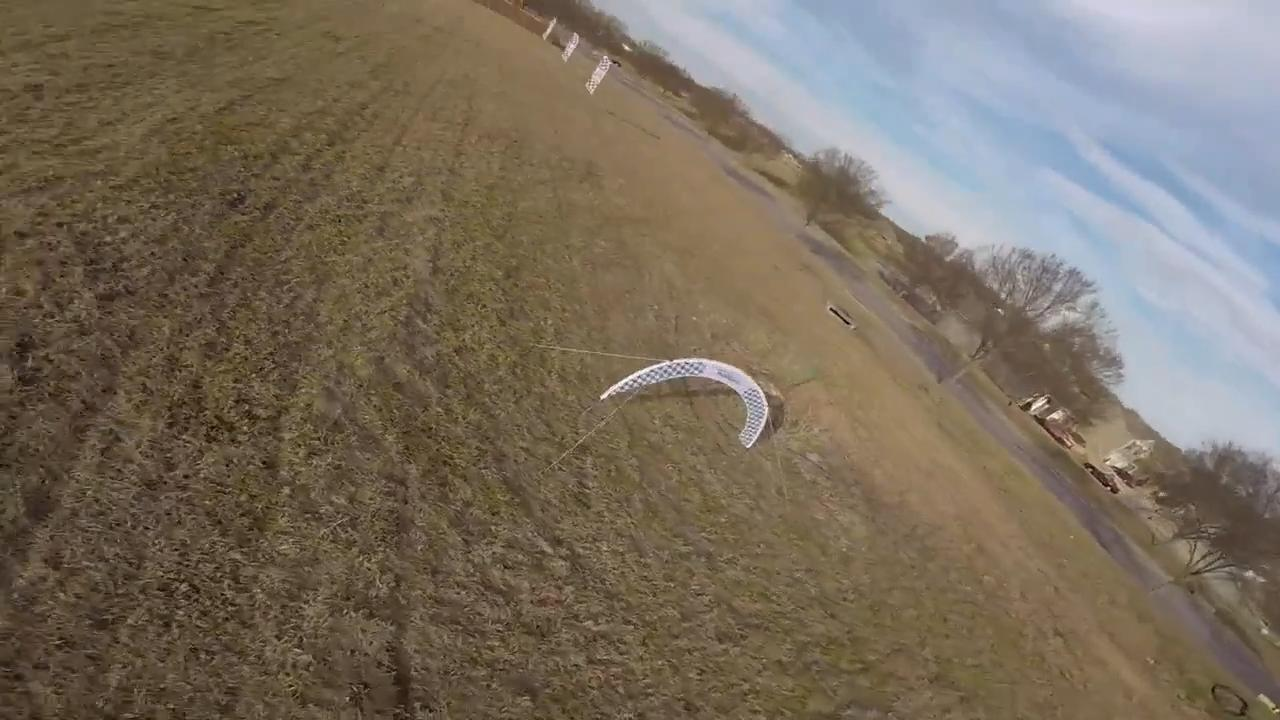gate: (597, 357, 770, 448)
